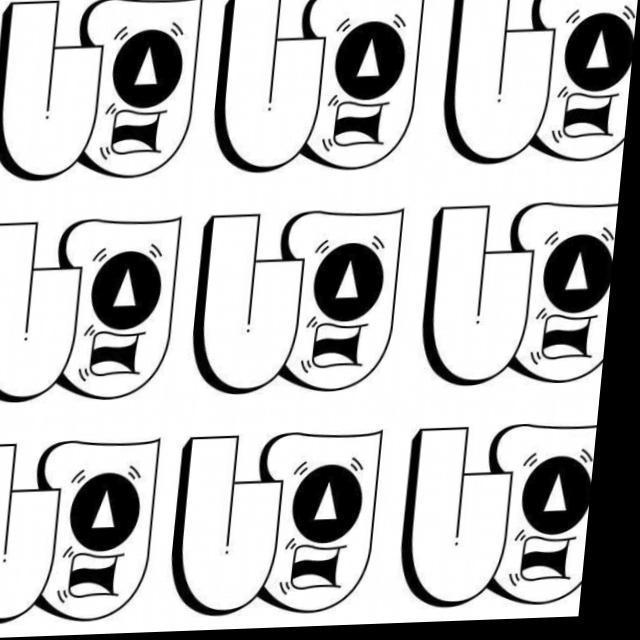nonspitting: (197, 203, 405, 395), (179, 422, 384, 614), (426, 195, 621, 390), (3, 3, 204, 185), (406, 422, 600, 607), (219, 0, 425, 171), (0, 219, 182, 408), (447, 0, 637, 164), (0, 437, 163, 622)
